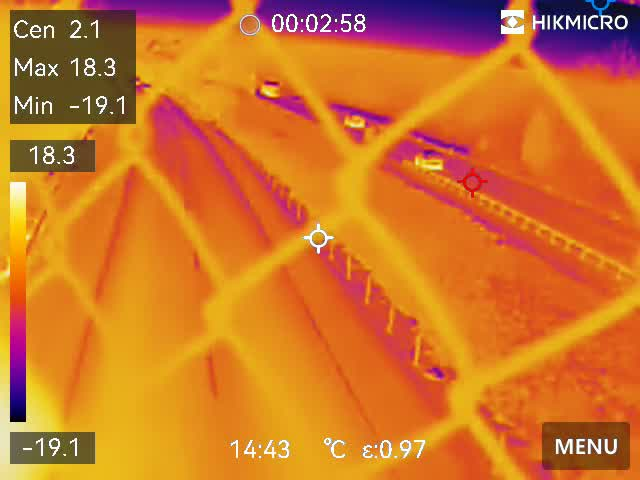vehicle: (412, 148, 449, 175), (338, 108, 367, 133), (260, 78, 288, 100)
